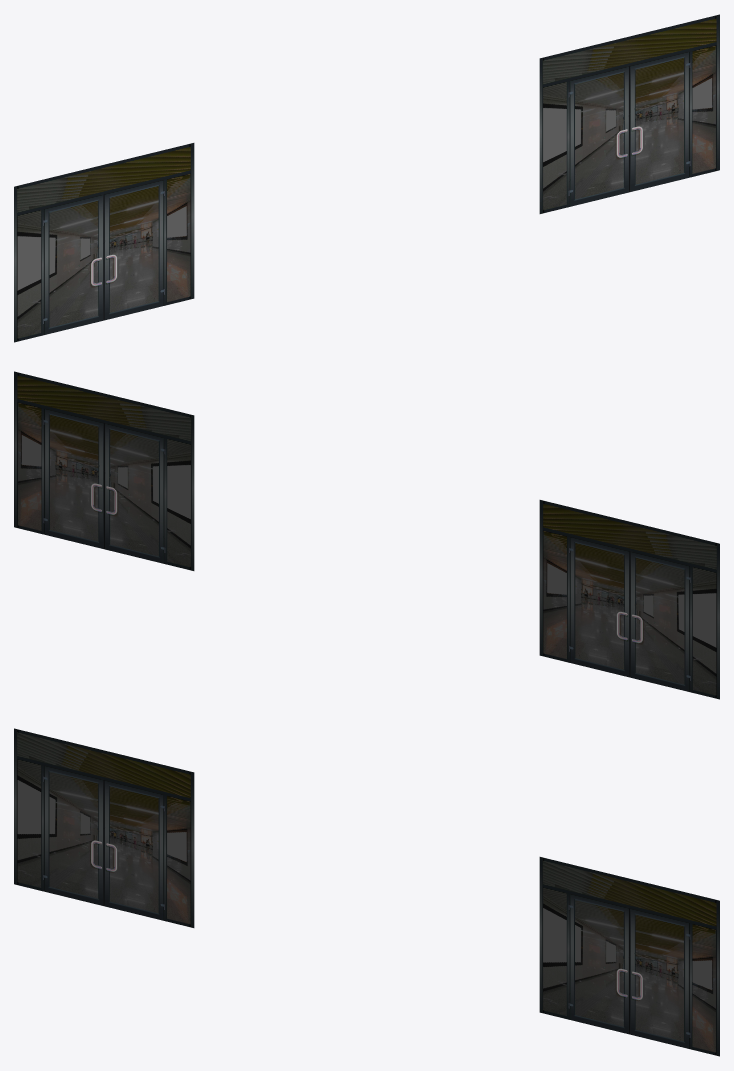
Rendered from Hall door.glb.
3 renders of one model, top to bottom at view 1: azimuth 30°, elevation 25°; view 2: azimuth 150°, elevation 25°; view 3: azimuth 330°, elevation 25°, orthographic.
Visible parts, largest first — view 1: Plane.015, Plane.016; view 2: Plane.015, Plane.016; view 3: Plane.015, Plane.016.
Part boxes in pixels (x1=…): Plane.015: x1=539, y1=14, x2=719, y2=213; Plane.016: x1=14, y1=143, x2=194, y2=342; Plane.015: x1=14, y1=371, x2=194, y2=570; Plane.016: x1=539, y1=500, x2=719, y2=699; Plane.015: x1=539, y1=857, x2=719, y2=1056; Plane.016: x1=14, y1=728, x2=194, y2=927.
Bounding box in the file's own units: 31.15 × 6.57 × 2.38e-07.
Materials: 2 (2 with a texture image).
